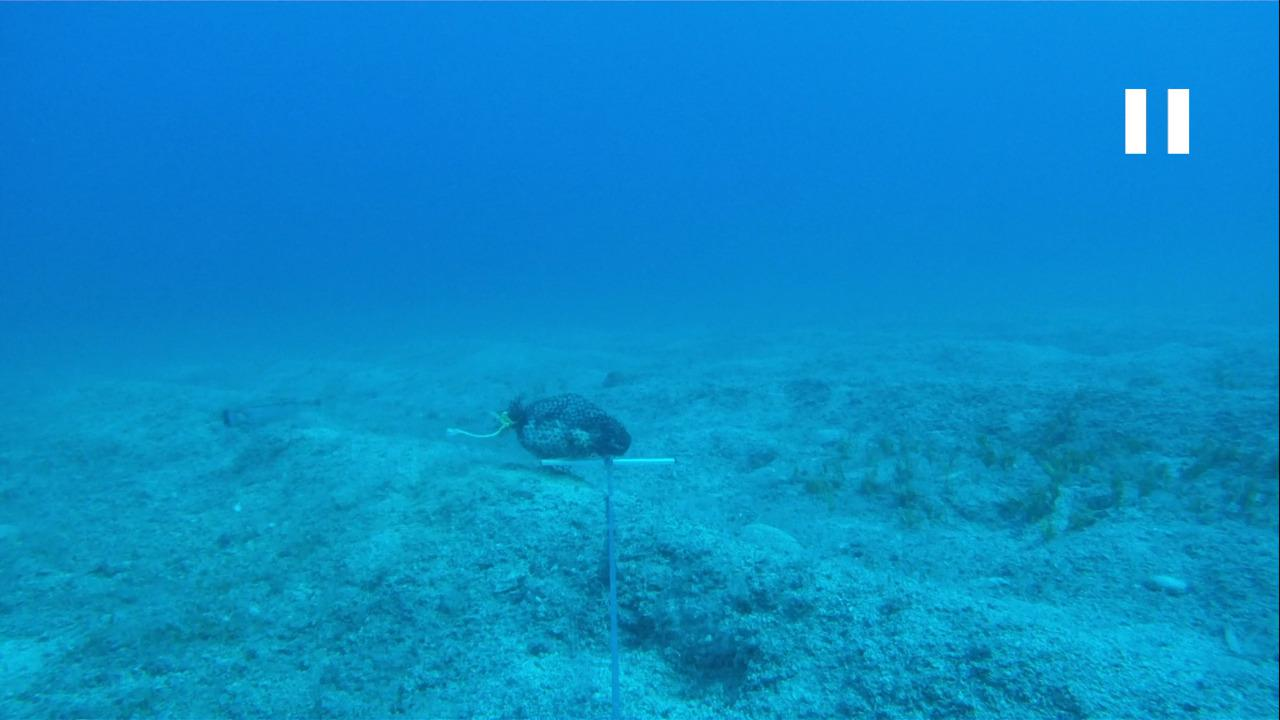dactylopterus: (207, 390, 352, 441)
